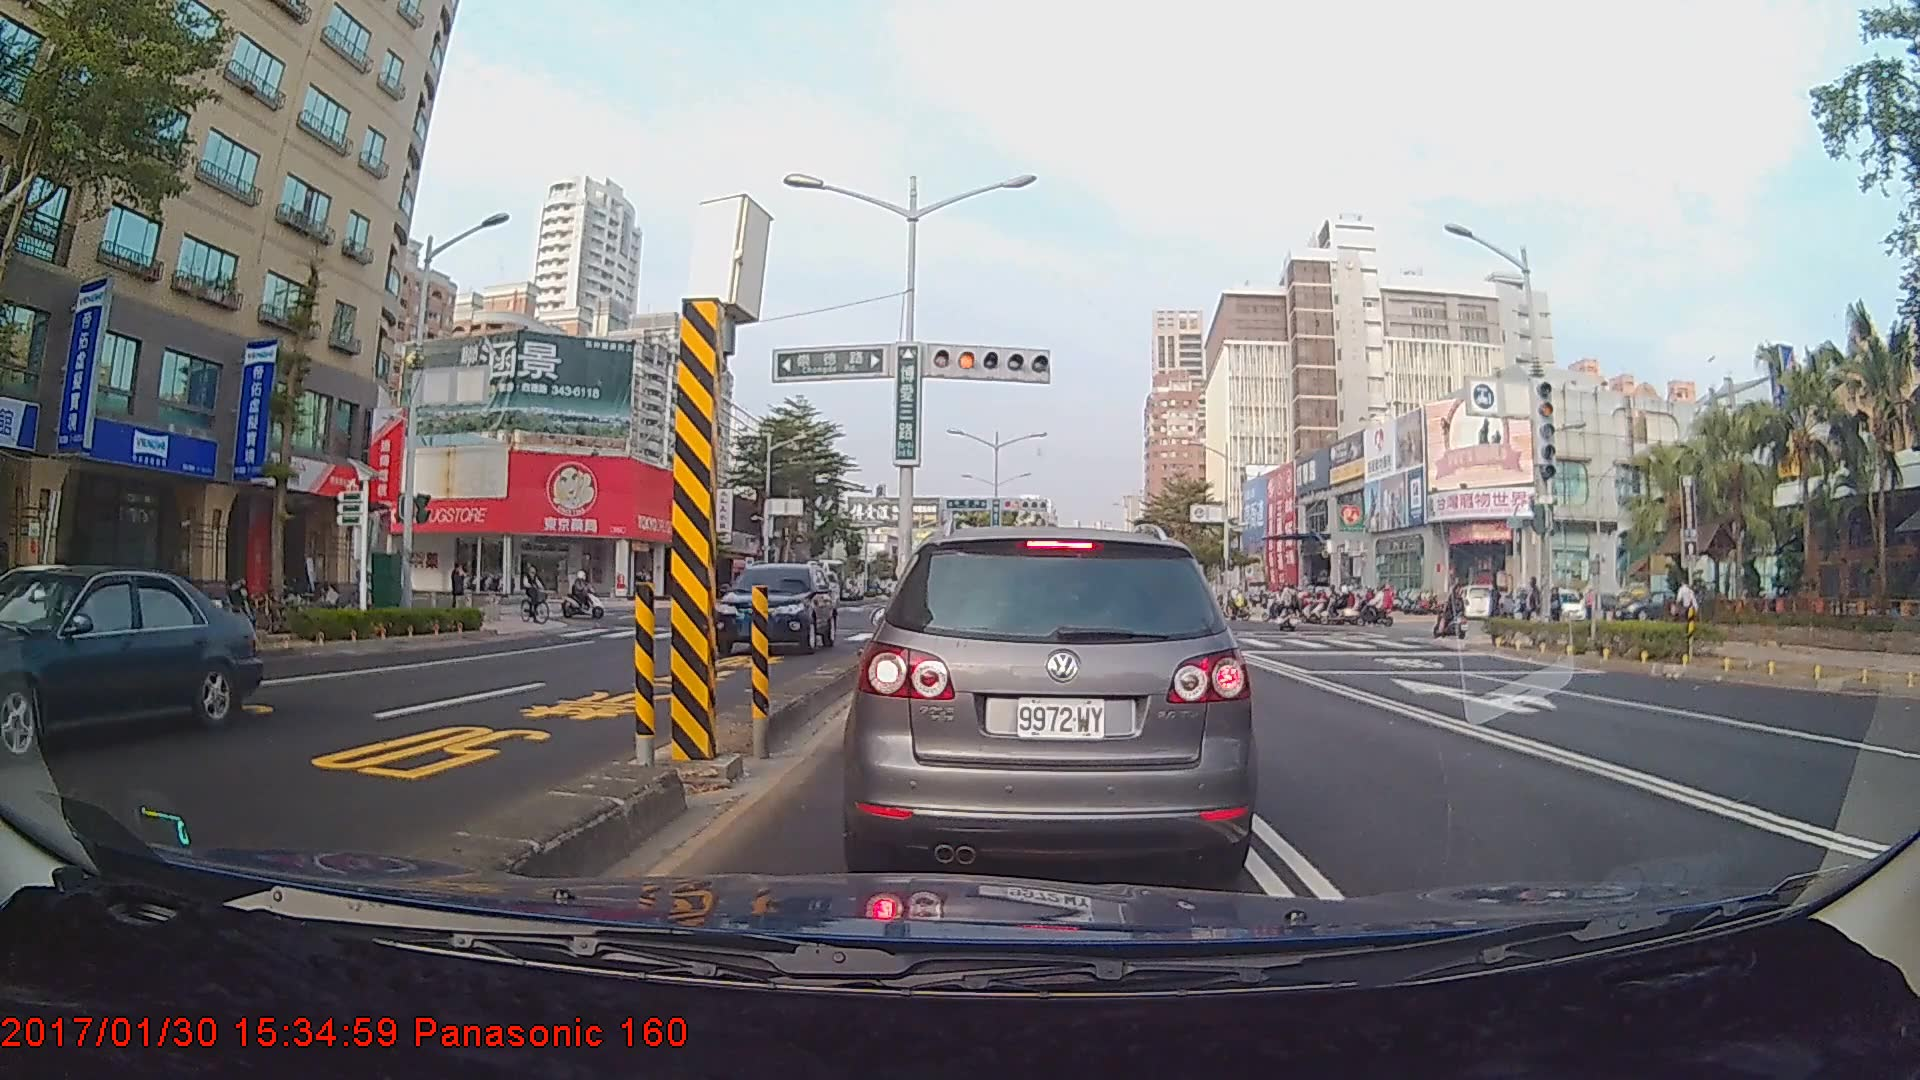pedestrian: (1675, 577, 1699, 634), (447, 563, 467, 620)
rider: (562, 566, 609, 619), (1436, 584, 1474, 639), (522, 566, 551, 627), (1271, 588, 1309, 633)
vehicle: (839, 512, 1259, 877), (0, 562, 263, 762), (715, 558, 836, 654)
